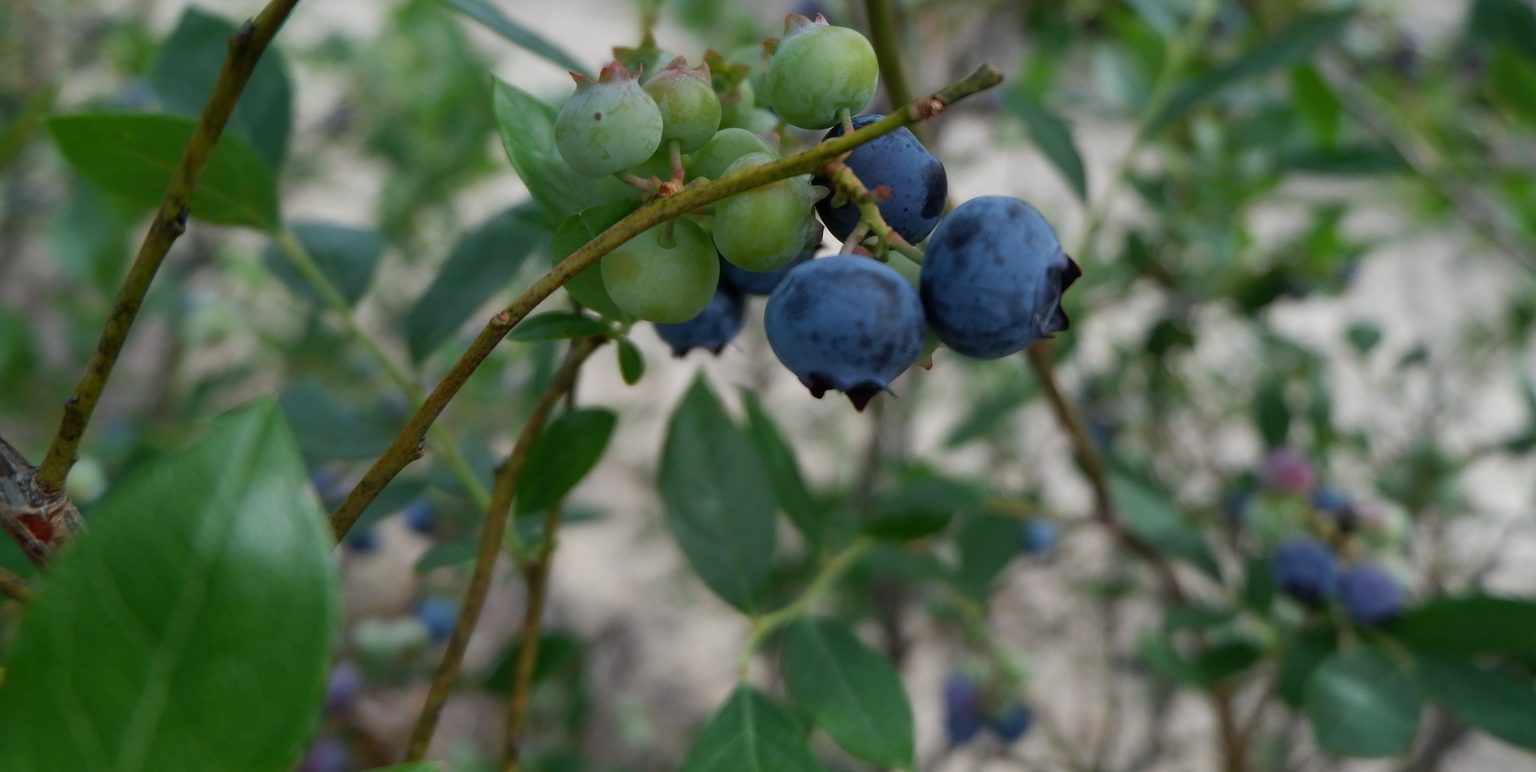Immature: (763, 13, 875, 128), (604, 220, 718, 321), (711, 155, 812, 269), (558, 64, 658, 174), (642, 55, 722, 156), (690, 130, 771, 183), (705, 49, 756, 130)
Mature: (920, 200, 1078, 356), (771, 257, 921, 404), (808, 114, 947, 254), (651, 276, 752, 357), (716, 248, 818, 297)
